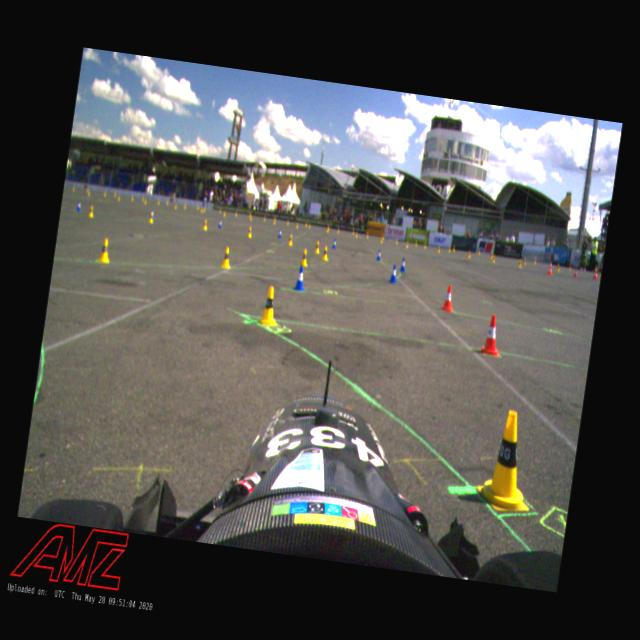blue_cone: (294, 265, 308, 292), (388, 264, 398, 284), (400, 258, 408, 274), (376, 248, 382, 262), (332, 238, 338, 250), (76, 200, 82, 212), (277, 228, 283, 238), (217, 218, 223, 228)
large_orange_cone: (592, 262, 601, 282), (547, 258, 554, 278)
orange_cone: (480, 314, 505, 358), (442, 284, 456, 312)
yellow_cone: (478, 408, 542, 512), (260, 284, 280, 326), (98, 237, 112, 264), (220, 245, 232, 268), (300, 248, 310, 266), (322, 246, 329, 262), (314, 240, 322, 254), (148, 210, 156, 223), (88, 204, 95, 217), (202, 218, 209, 230), (246, 226, 253, 238), (287, 234, 294, 246)
